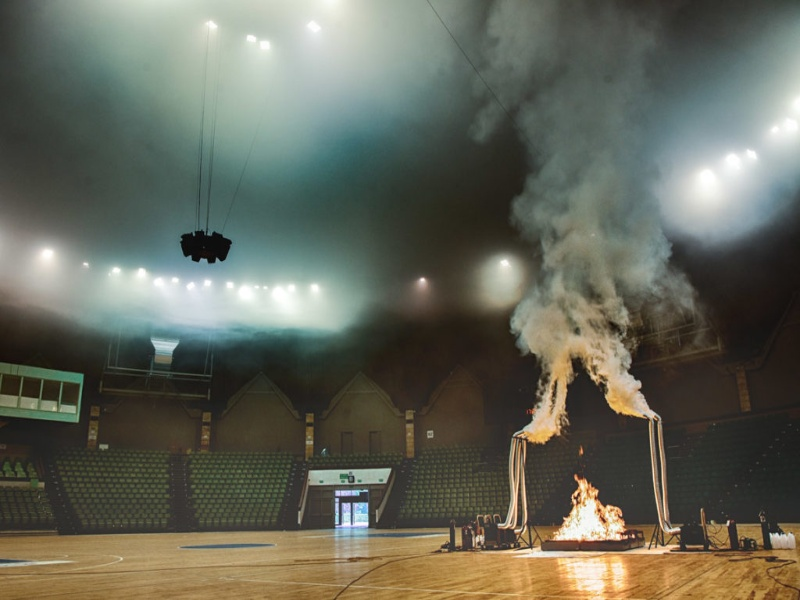smoke: (495, 1, 636, 361)
